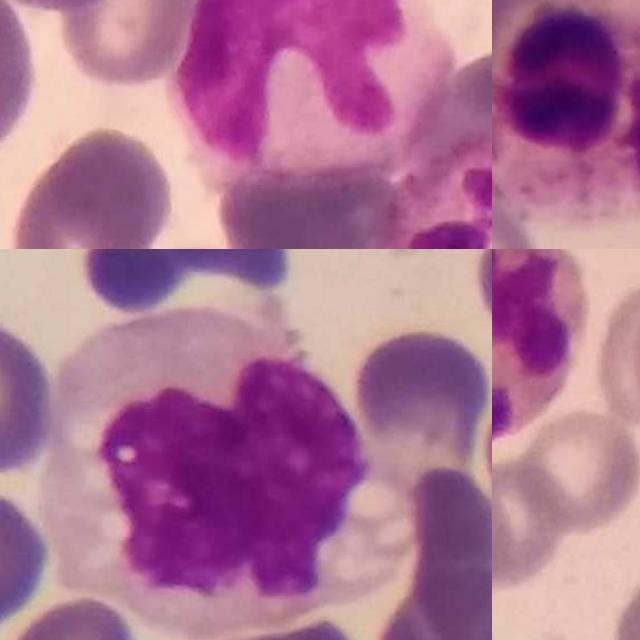Monocyte: (52, 309, 375, 623), (178, 0, 455, 178)
Neutrophil: (492, 0, 640, 230), (492, 249, 584, 445)
